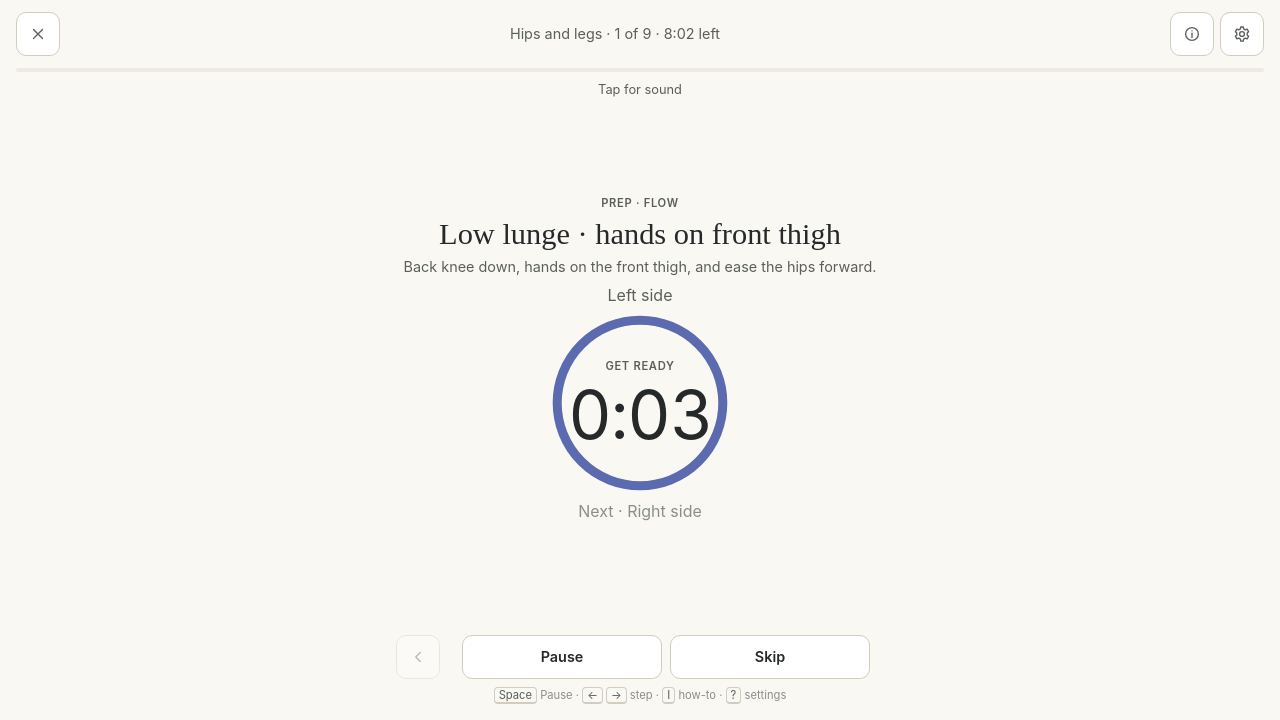
it: a document workout's items, played › a cue is said of its move: swapped for another, the slot shows none; swapped back, it shows again
The width and height of the screenshot is (1280, 720).
Press ArrowRight
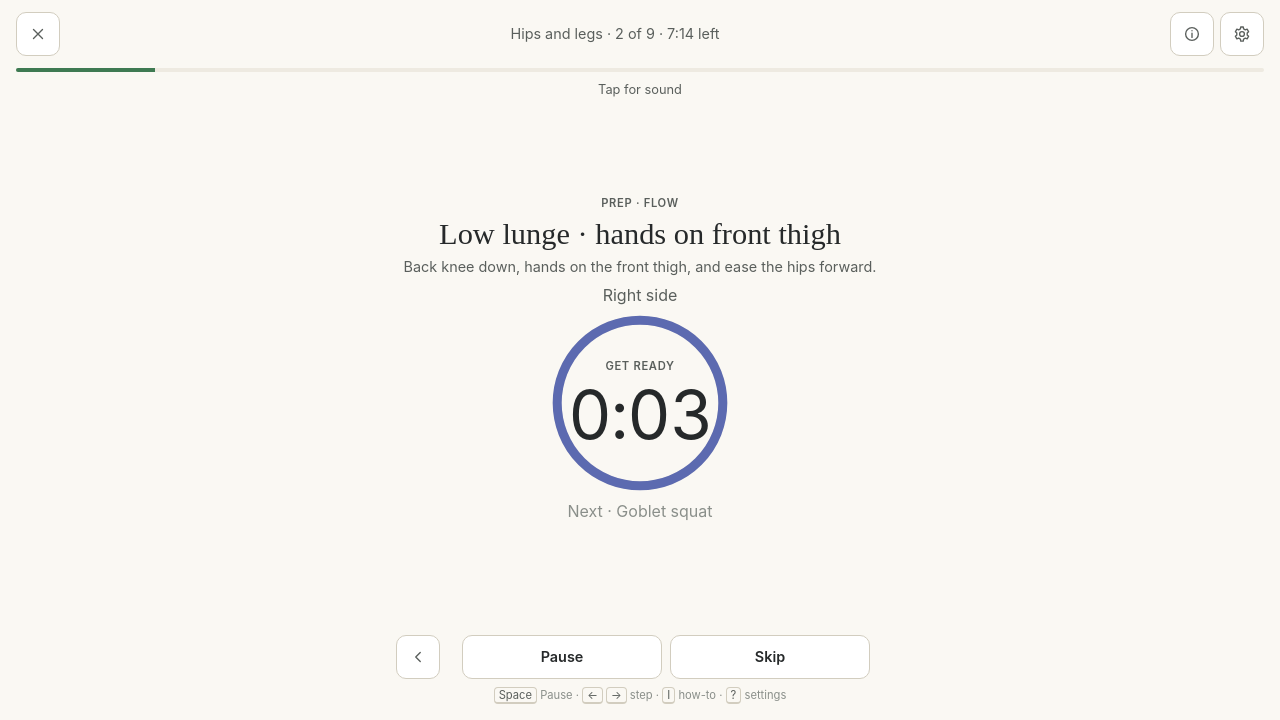
Press ArrowRight
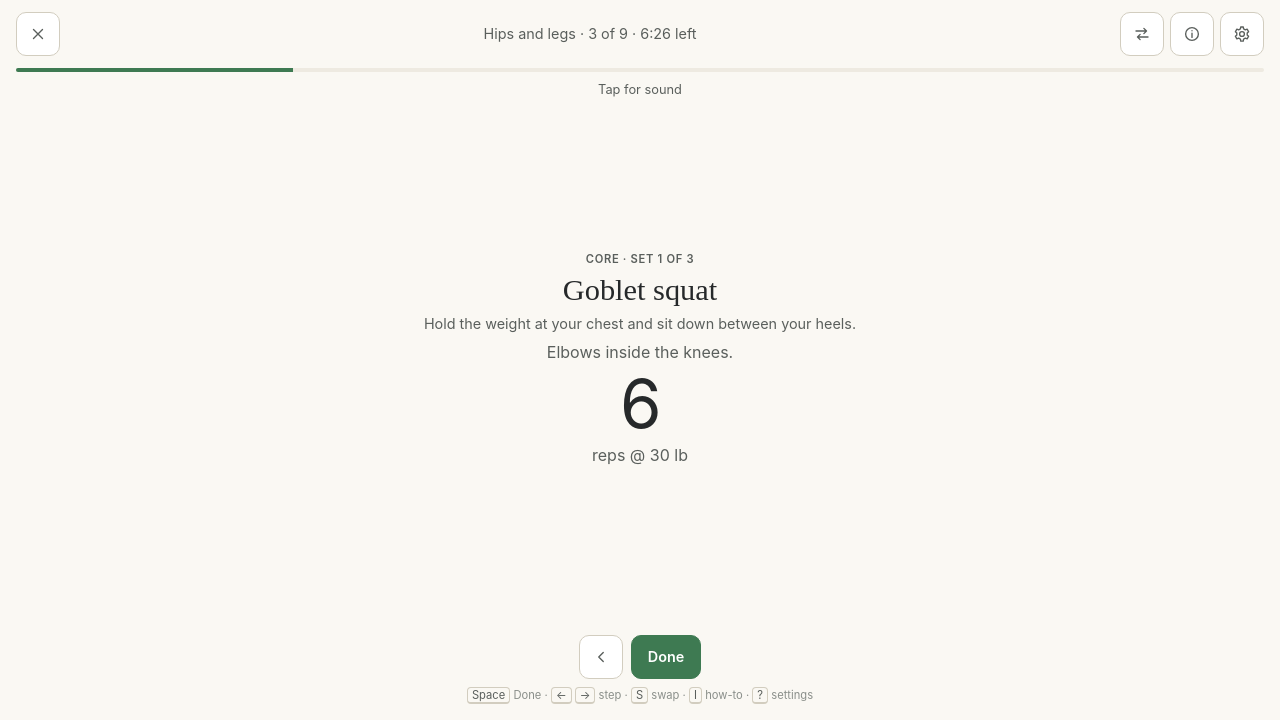
Click the button named "Swap" at (1142, 34), box [1120,12,1164,56]
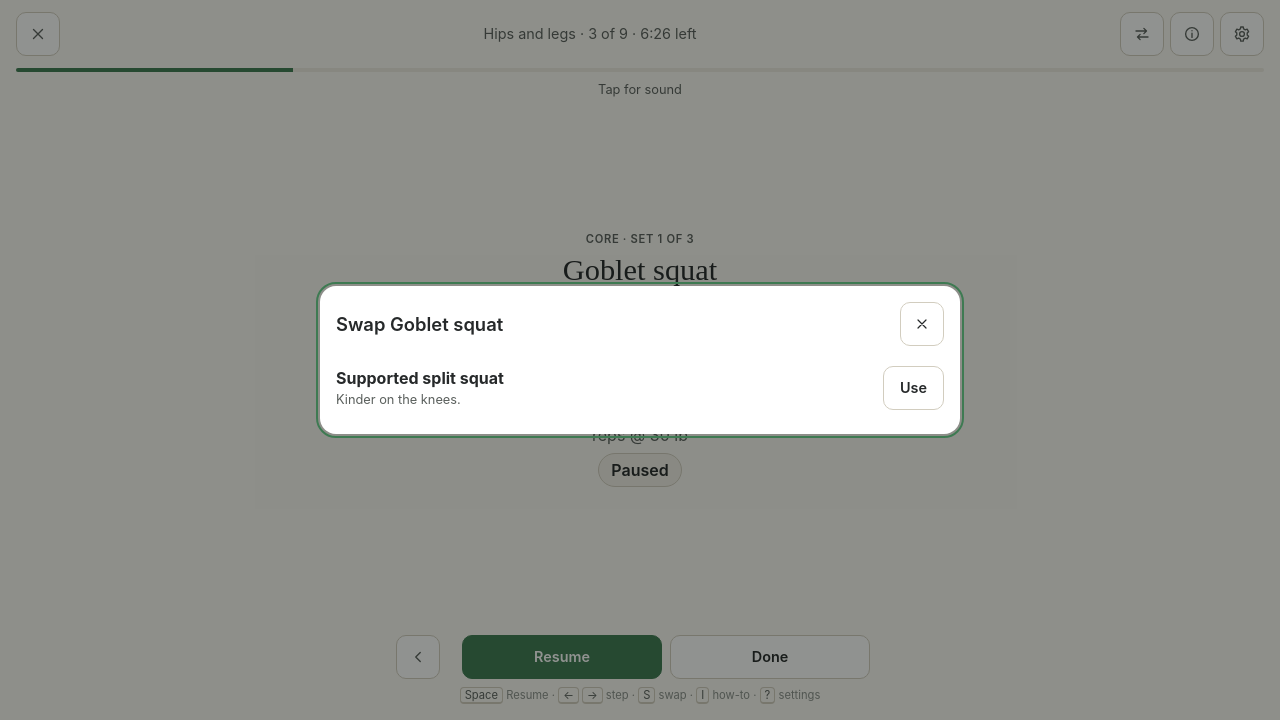
Click the button "Use" at (914, 388), box [883,366,944,410]
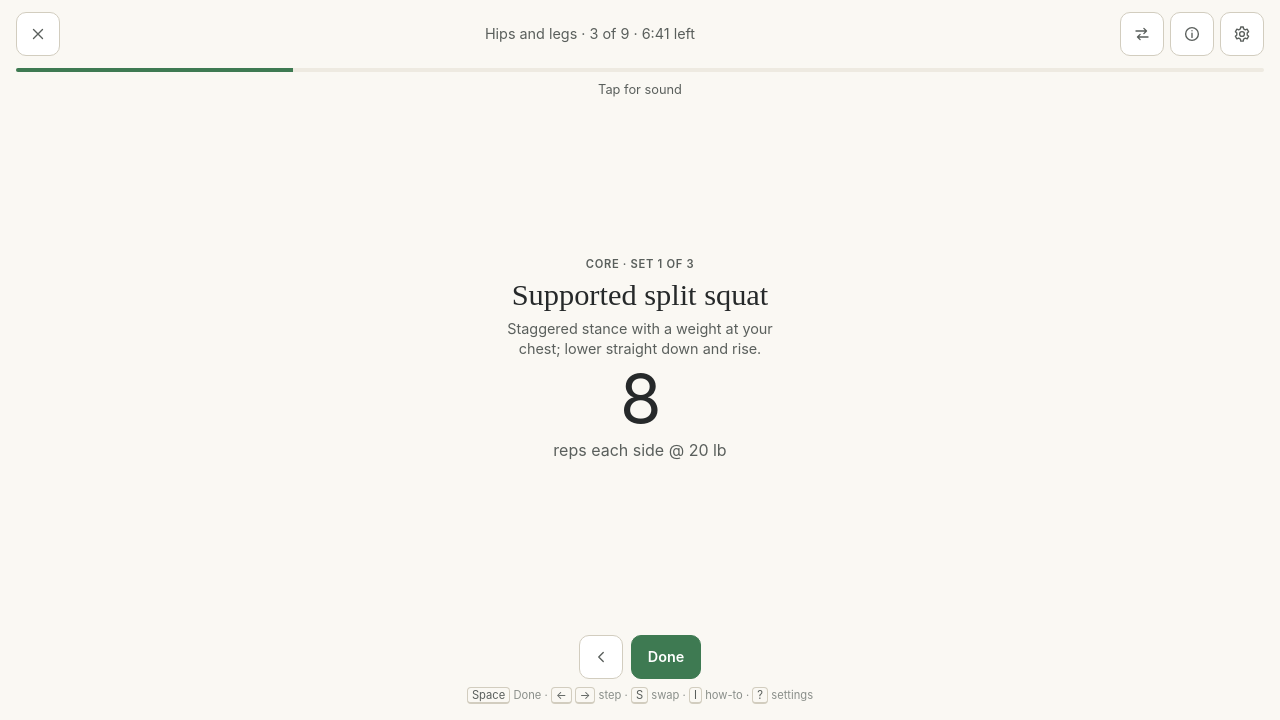
Click the button named "Swap" at (1142, 34), box [1120,12,1164,56]
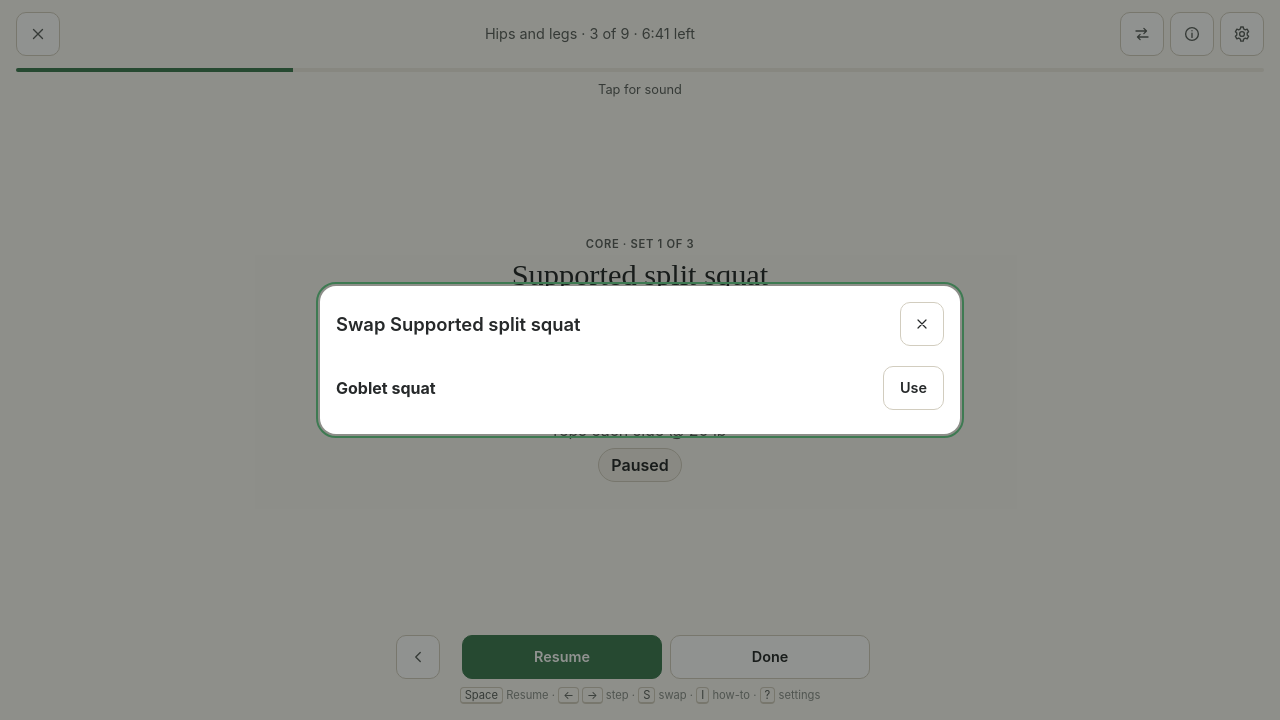
Click the button "Use" at (914, 388), box [883,366,944,410]
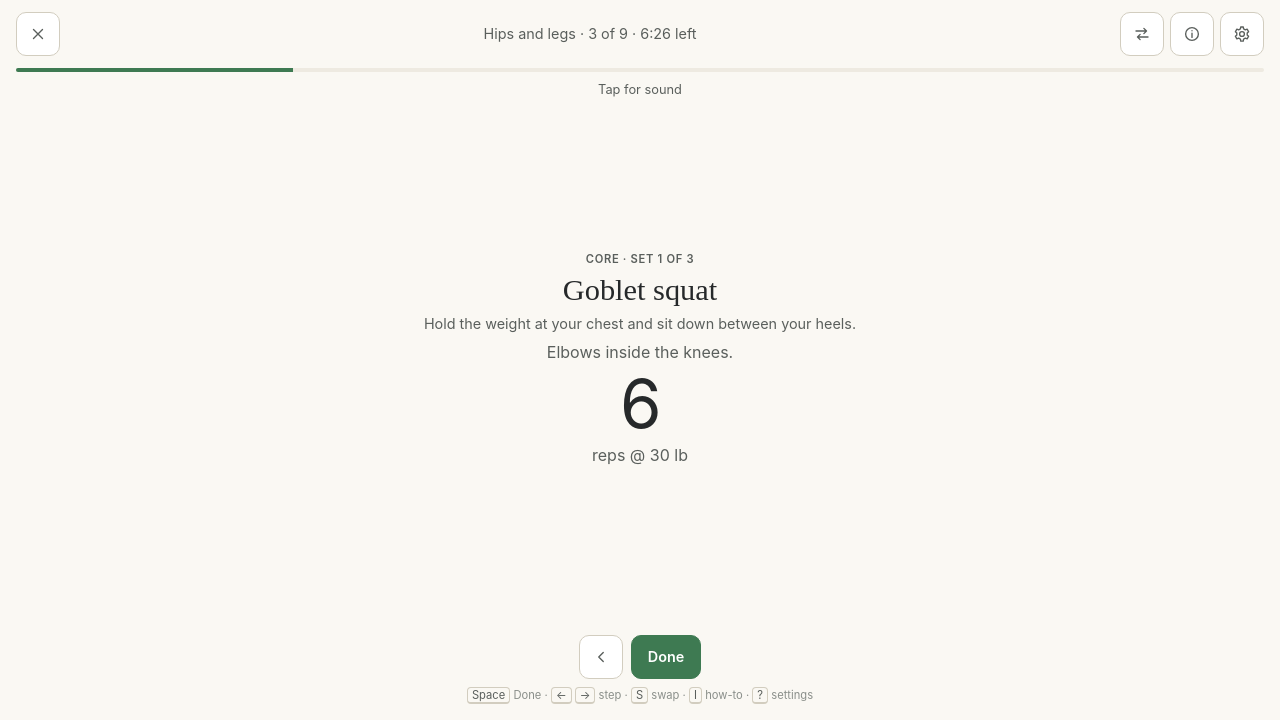
Expected: the text "Elbows inside the knees." is shown, [547,340,733,364]
